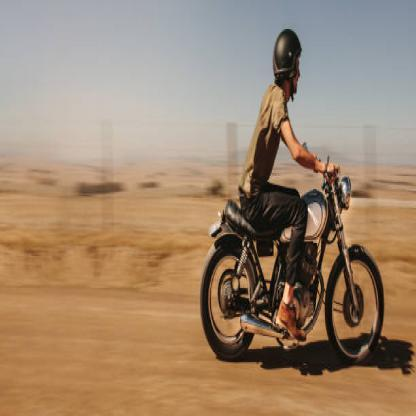Motorcycle: (201, 149, 386, 376)
